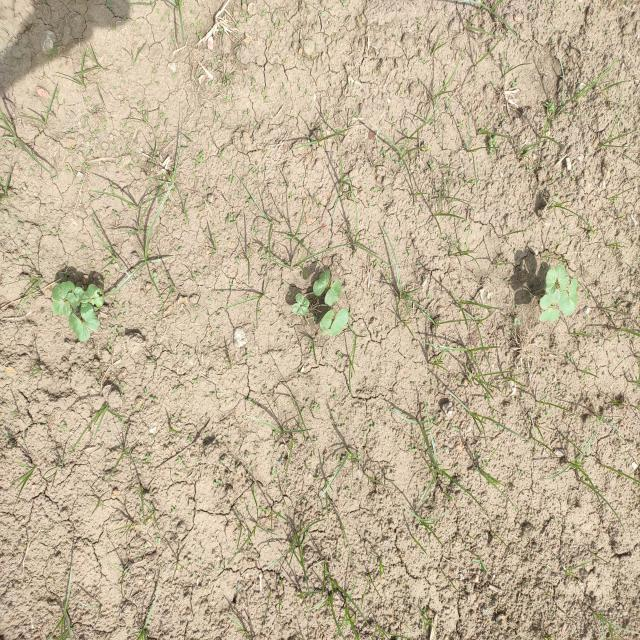seedling: (69, 313, 89, 342), (330, 308, 349, 335), (81, 303, 99, 330), (52, 281, 75, 301), (313, 269, 330, 296), (325, 279, 342, 306), (558, 290, 575, 316), (540, 289, 561, 310), (79, 284, 98, 306), (556, 263, 570, 291), (51, 301, 73, 318), (320, 310, 334, 335), (545, 268, 557, 296), (89, 288, 104, 307), (569, 278, 578, 308), (540, 308, 559, 322), (67, 292, 79, 314), (295, 293, 310, 307), (291, 303, 308, 315), (74, 286, 84, 301)
